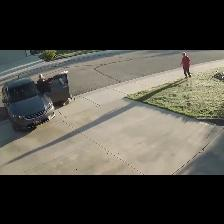person: (36, 74, 50, 93), (181, 53, 191, 78)
